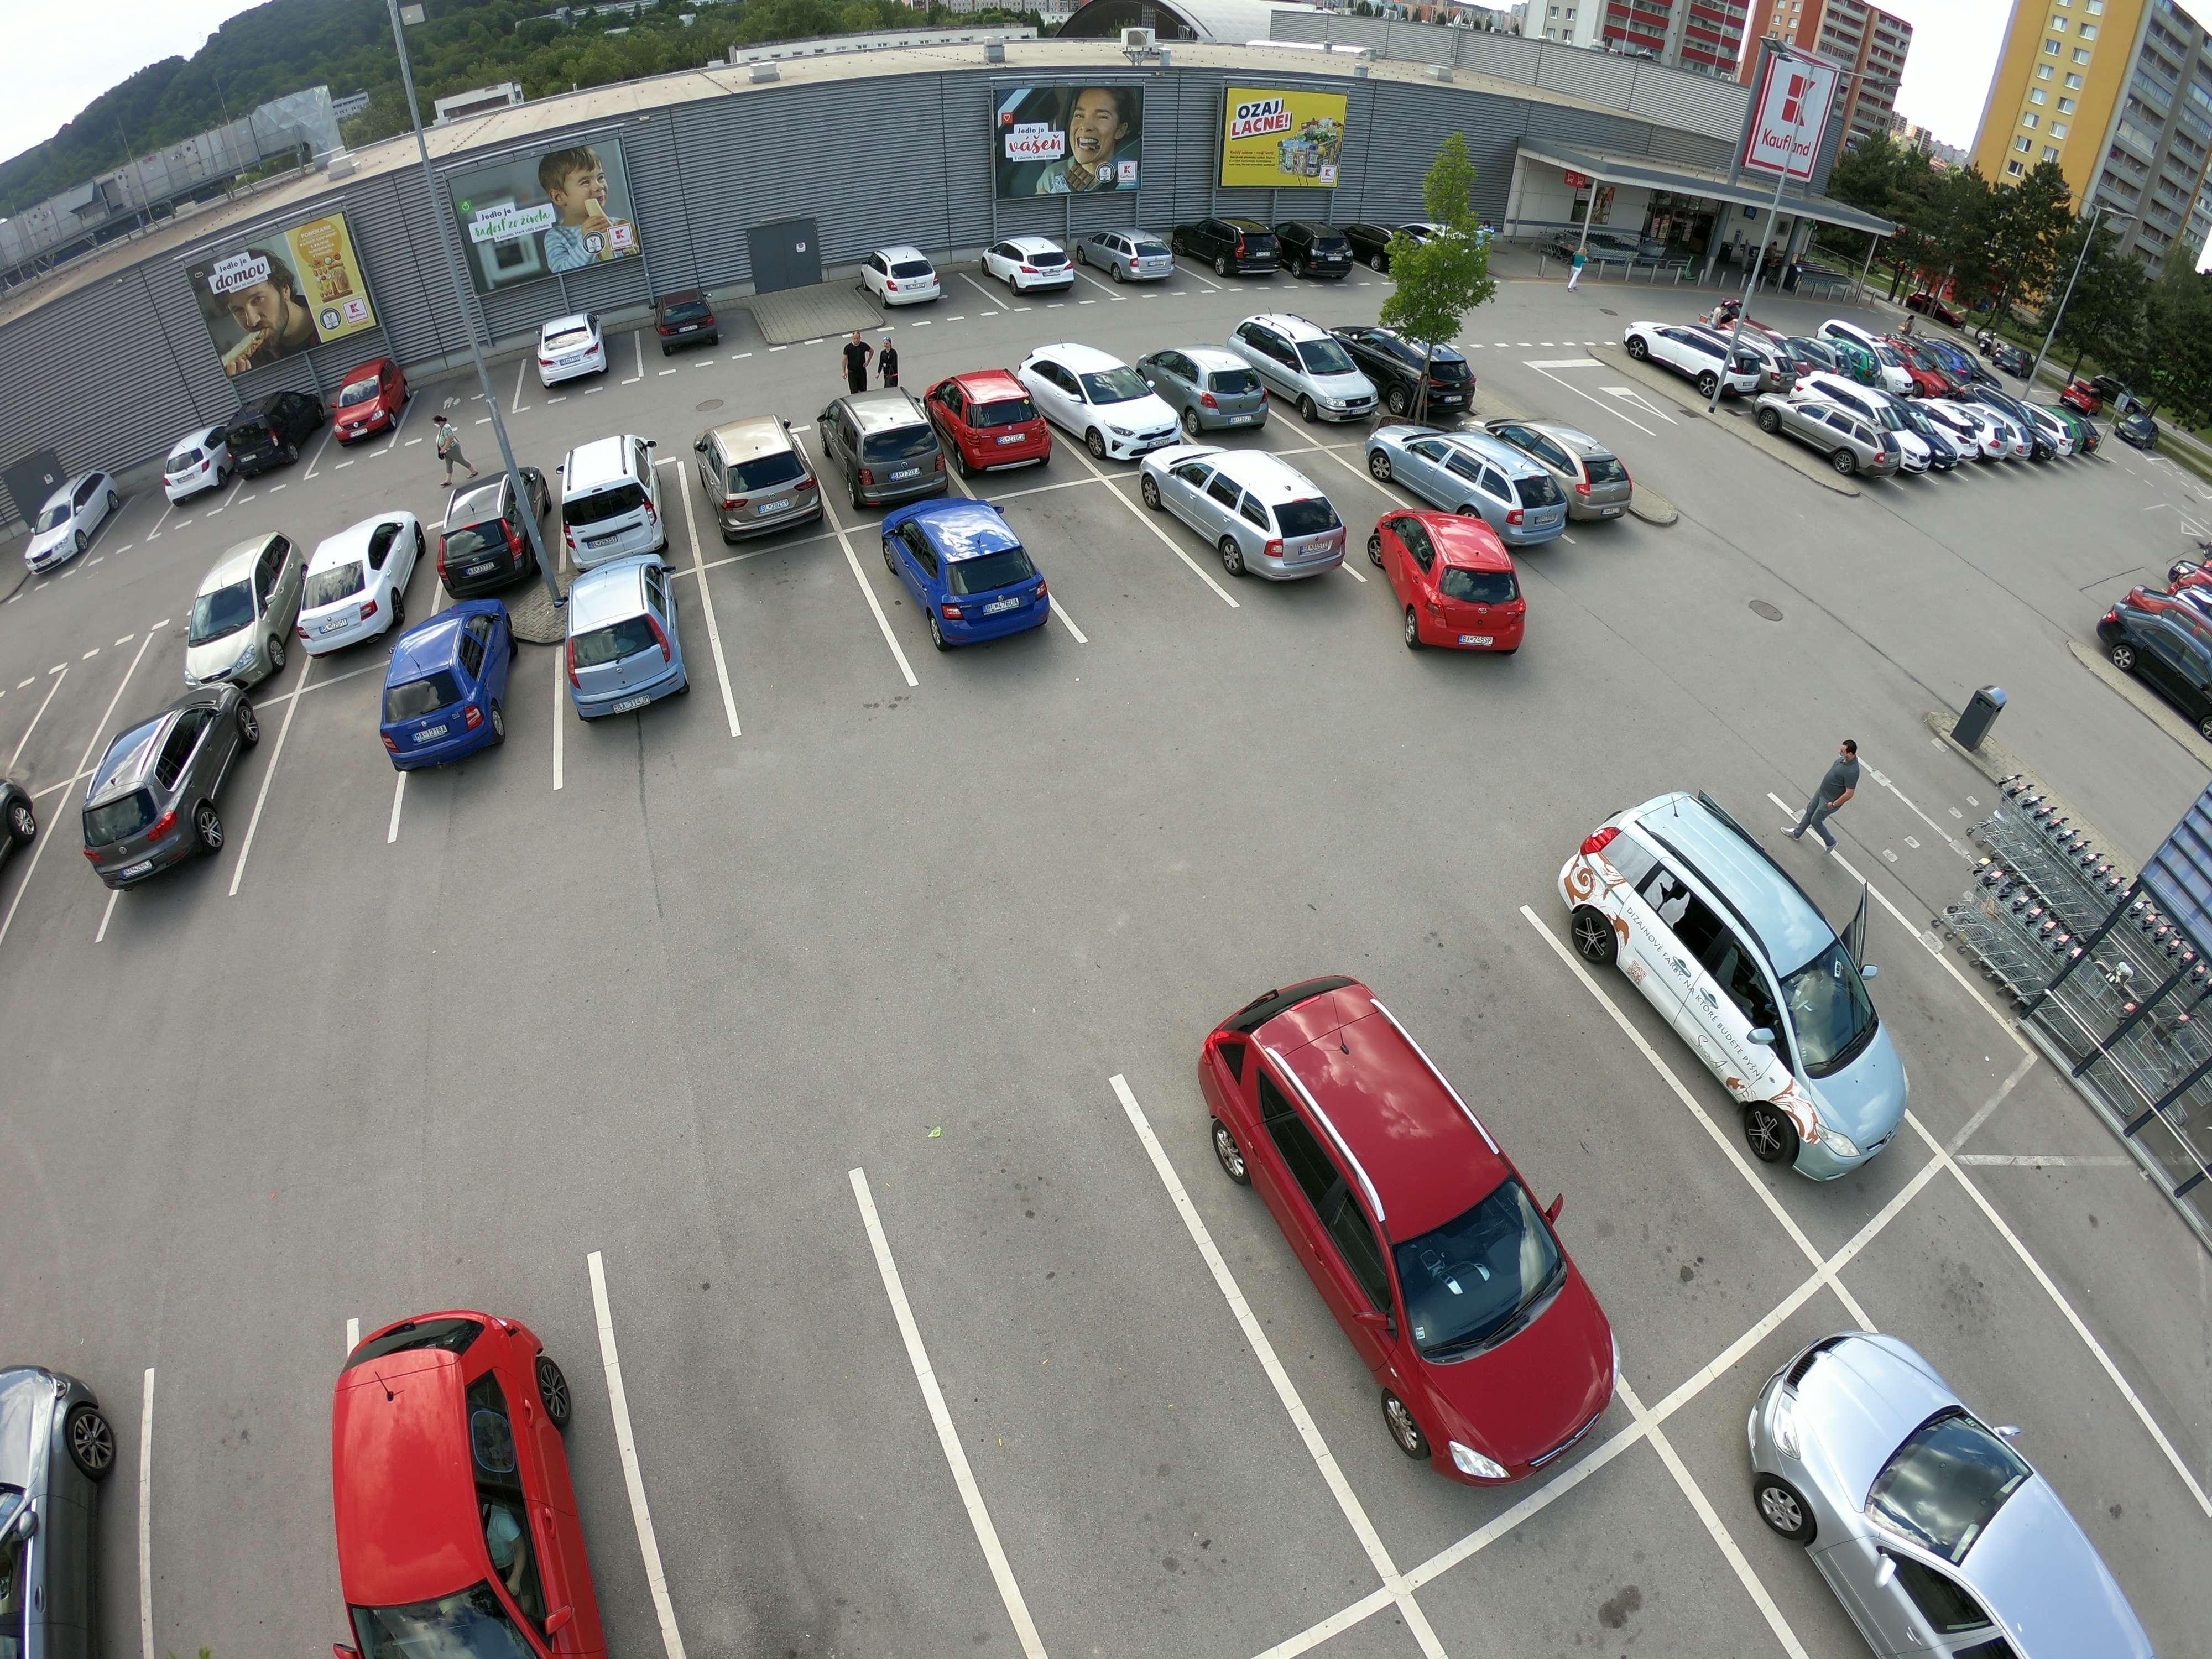empty: (1174, 958, 1627, 1480), (1728, 1333, 2186, 1659), (1555, 781, 1912, 1175), (314, 1300, 615, 1650), (2, 1337, 117, 1659), (66, 701, 251, 890), (871, 495, 1068, 648), (543, 547, 705, 723), (373, 606, 536, 777), (1158, 450, 1364, 584), (1367, 512, 1540, 666), (164, 533, 301, 687), (289, 511, 428, 653), (1383, 429, 1568, 533), (1031, 343, 1183, 458), (697, 416, 833, 544), (1761, 382, 1928, 481), (2106, 598, 2212, 742), (1235, 315, 1381, 416), (545, 434, 678, 544), (1494, 413, 1635, 512), (434, 474, 547, 596), (838, 392, 954, 502), (934, 371, 1055, 476), (16, 465, 124, 573), (1151, 336, 1270, 432), (1341, 331, 1463, 410), (214, 390, 322, 474), (1923, 396, 2034, 469), (523, 314, 622, 394), (1167, 209, 1278, 279), (3, 784, 57, 927), (1623, 317, 1742, 382), (1082, 221, 1183, 289), (981, 230, 1085, 295), (852, 251, 951, 314), (326, 368, 404, 444), (650, 284, 730, 356), (158, 429, 232, 505), (1271, 220, 1362, 281)
occupied: (662, 1335, 925, 1584), (968, 1263, 1228, 1495), (141, 1452, 326, 1647), (1468, 1014, 1648, 1194), (1965, 1307, 2092, 1486), (1797, 857, 1930, 1014), (2090, 1223, 2210, 1363), (740, 584, 869, 680), (286, 706, 383, 817), (85, 467, 178, 551), (30, 680, 131, 755), (1054, 525, 1153, 594), (401, 371, 509, 432)
